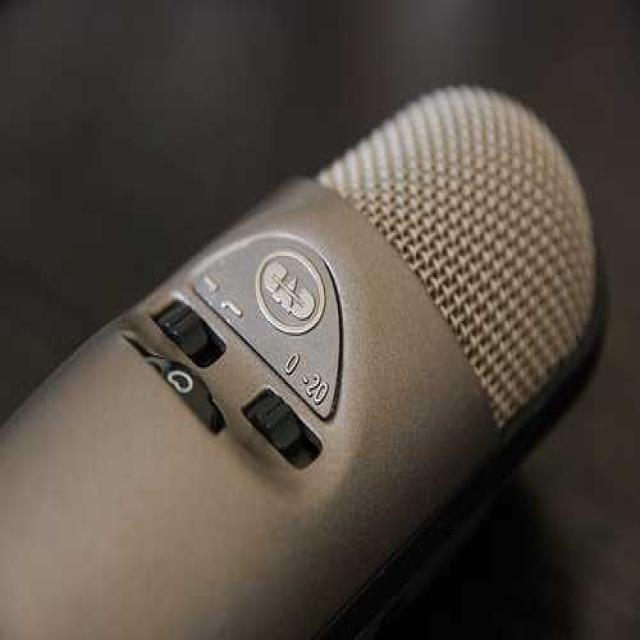microphone: (4, 95, 592, 632)
